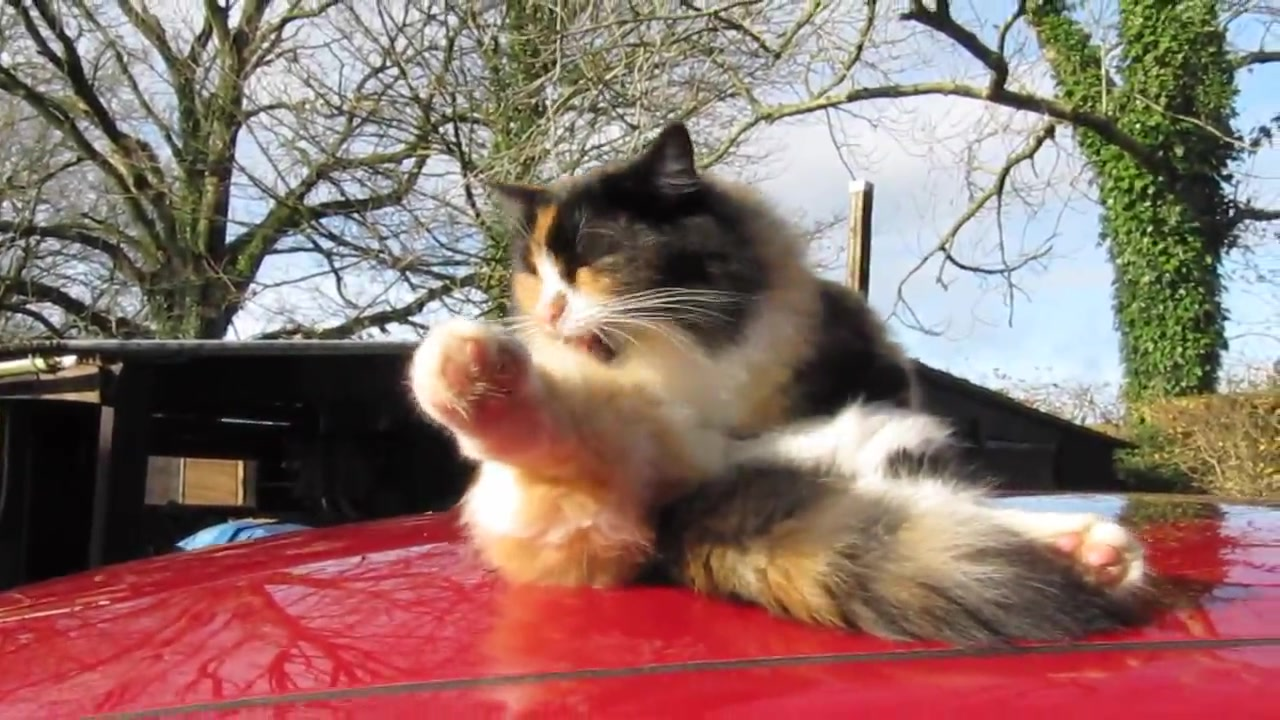cat: (405, 122, 1152, 646)
